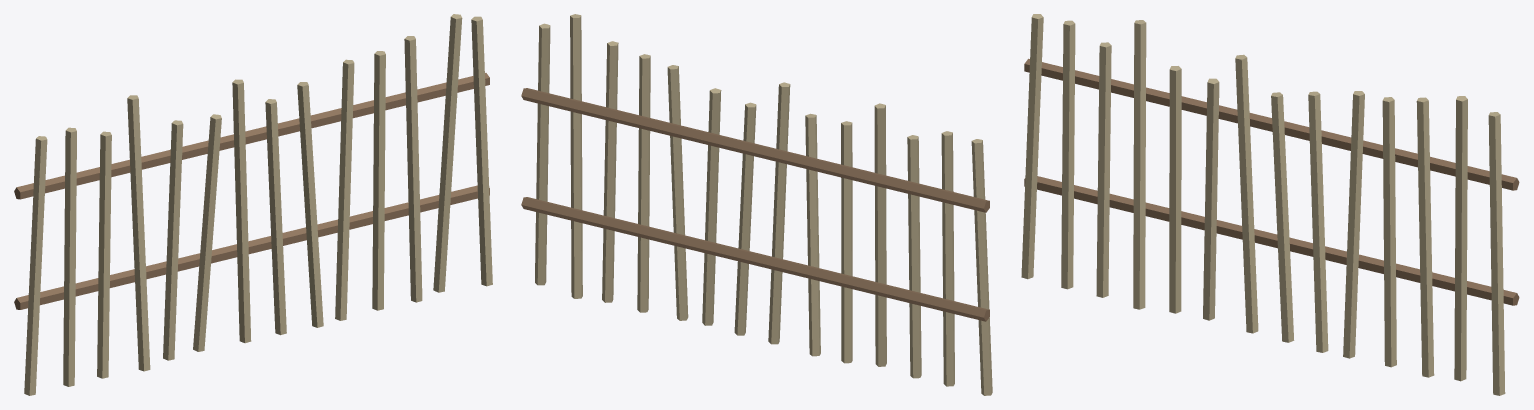
The model's file is wicker_fence.glb.
3 renders of one model, left to right at view 1: azimuth 30°, elevation 25°; view 2: azimuth 150°, elevation 25°; view 3: azimuth 330°, elevation 25°, orthographic. The views are drawn at different scales.
Parts seen in each view (by area): view 1: wicker_fence; view 2: wicker_fence; view 3: wicker_fence.
Boxes of the visible parts, x1,y1,x2,y2 form: wicker_fence: (14,14,492,395); wicker_fence: (521,14,992,395); wicker_fence: (1021,14,1519,395).
Size of the model in its own units: 2 by 1.13 by 0.1225.
